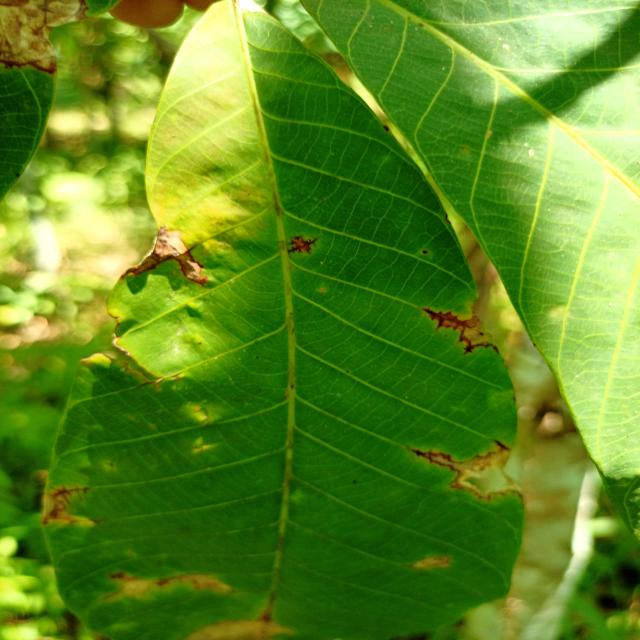Colletotrichum: (422, 250, 428, 254)
Corynespora: (422, 307, 467, 342), (406, 446, 456, 472), (50, 485, 90, 503), (458, 338, 499, 355), (288, 235, 320, 255)
Leaf-Blight: (119, 227, 210, 284), (453, 448, 522, 498), (465, 316, 494, 345)
